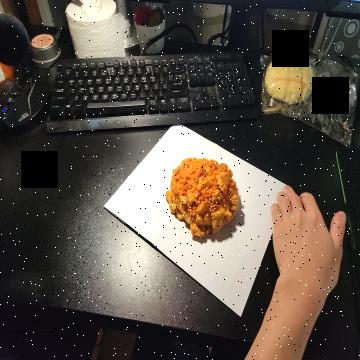soboru_bread: (166, 156, 241, 236)
